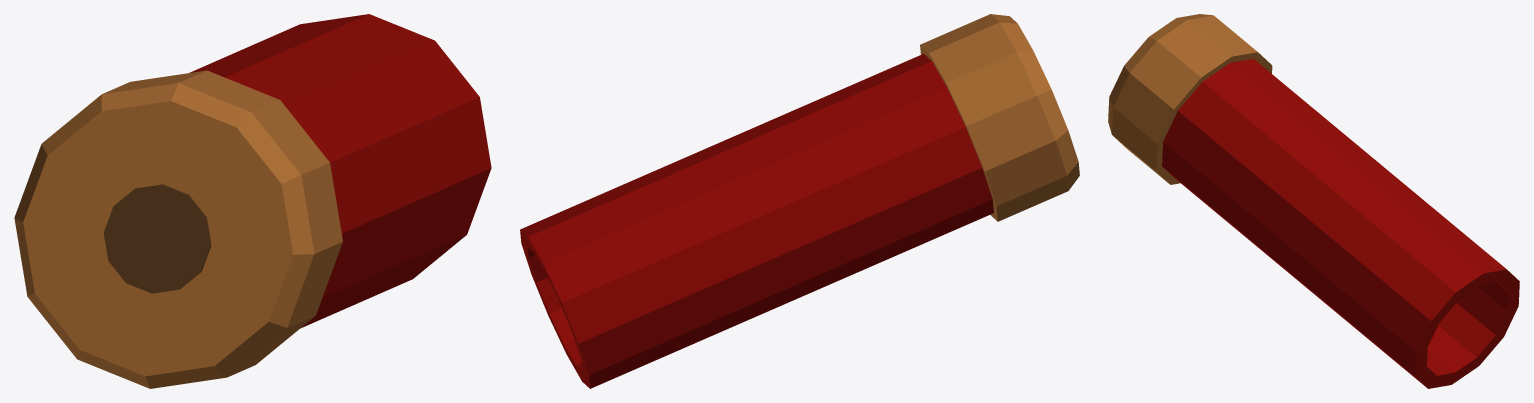
The picture shows the model from 3 angles, left to right: view 1: azimuth 30°, elevation 25°; view 2: azimuth 150°, elevation 25°; view 3: azimuth 270°, elevation 25°; orthographic projection. The views are drawn at different scales.
Visible parts, largest first — view 1: Object_3, Object_5, Object_2; view 2: Object_5, Object_3; view 3: Object_5, Object_3.
Part boxes in pixels (box(x1,y1,x2,y2)): Object_3: box(14, 70, 342, 388); Object_5: box(189, 14, 491, 328); Object_2: box(103, 184, 211, 293); Object_5: box(520, 53, 993, 388); Object_3: box(920, 14, 1079, 221); Object_5: box(1162, 59, 1519, 388); Object_3: box(1108, 14, 1272, 184).
Size of the model in its own units: 6.23 by 4.38 by 6.33.
